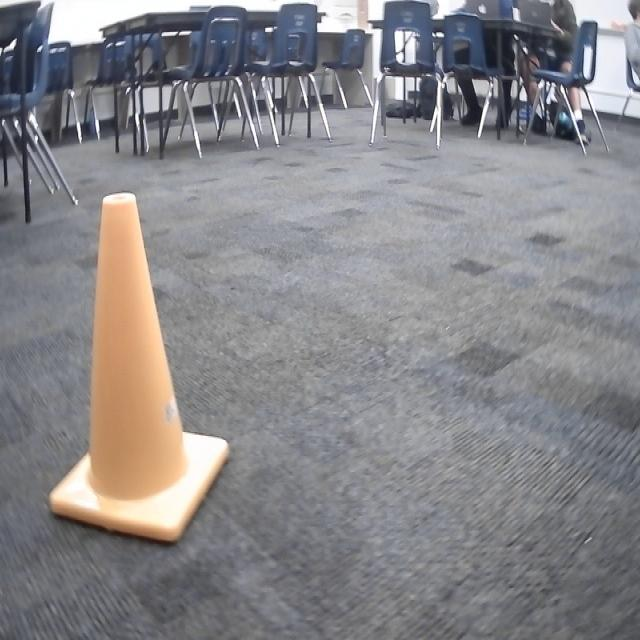cone: (46, 185, 235, 557)
